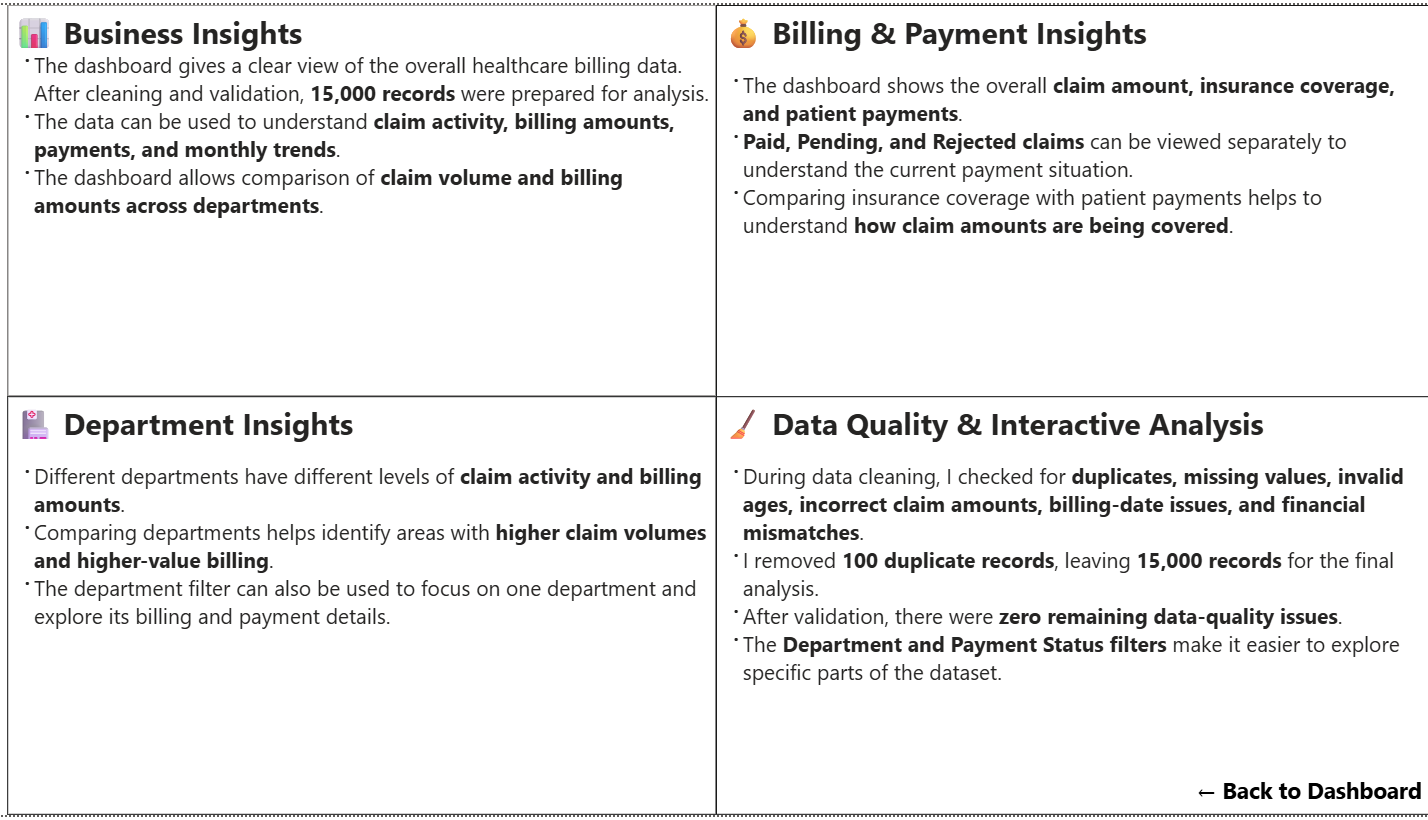

What the dashboard file says about the page in this screenshot:
{"tool":"powerbi","page":{"name":"Business Insights & Data Quality","canvas":[1280,720],"ordinal":1},"visuals":[{"type":"textbox","box":[10,0,630,348],"z":0},{"type":"textbox","box":[10,348,630,372],"z":1000},{"type":"textbox","box":[640.3,0,640.3,348.6],"z":2000},{"type":"textbox","box":[640,348,640,372],"z":3000},{"type":"actionButton","box":[1063.3,680,216.7,40],"z":4000}]}

Visuals, with their boxes in screenshot pixels (x1, y1, x2, y2), scaled from the page's 1280x720 canvas onto the 1428x820 screenshot:
textbox: [11,0,714,396]
textbox: [11,396,714,819]
textbox: [714,0,1427,397]
textbox: [714,396,1427,819]
actionButton: [1186,774,1427,819]
